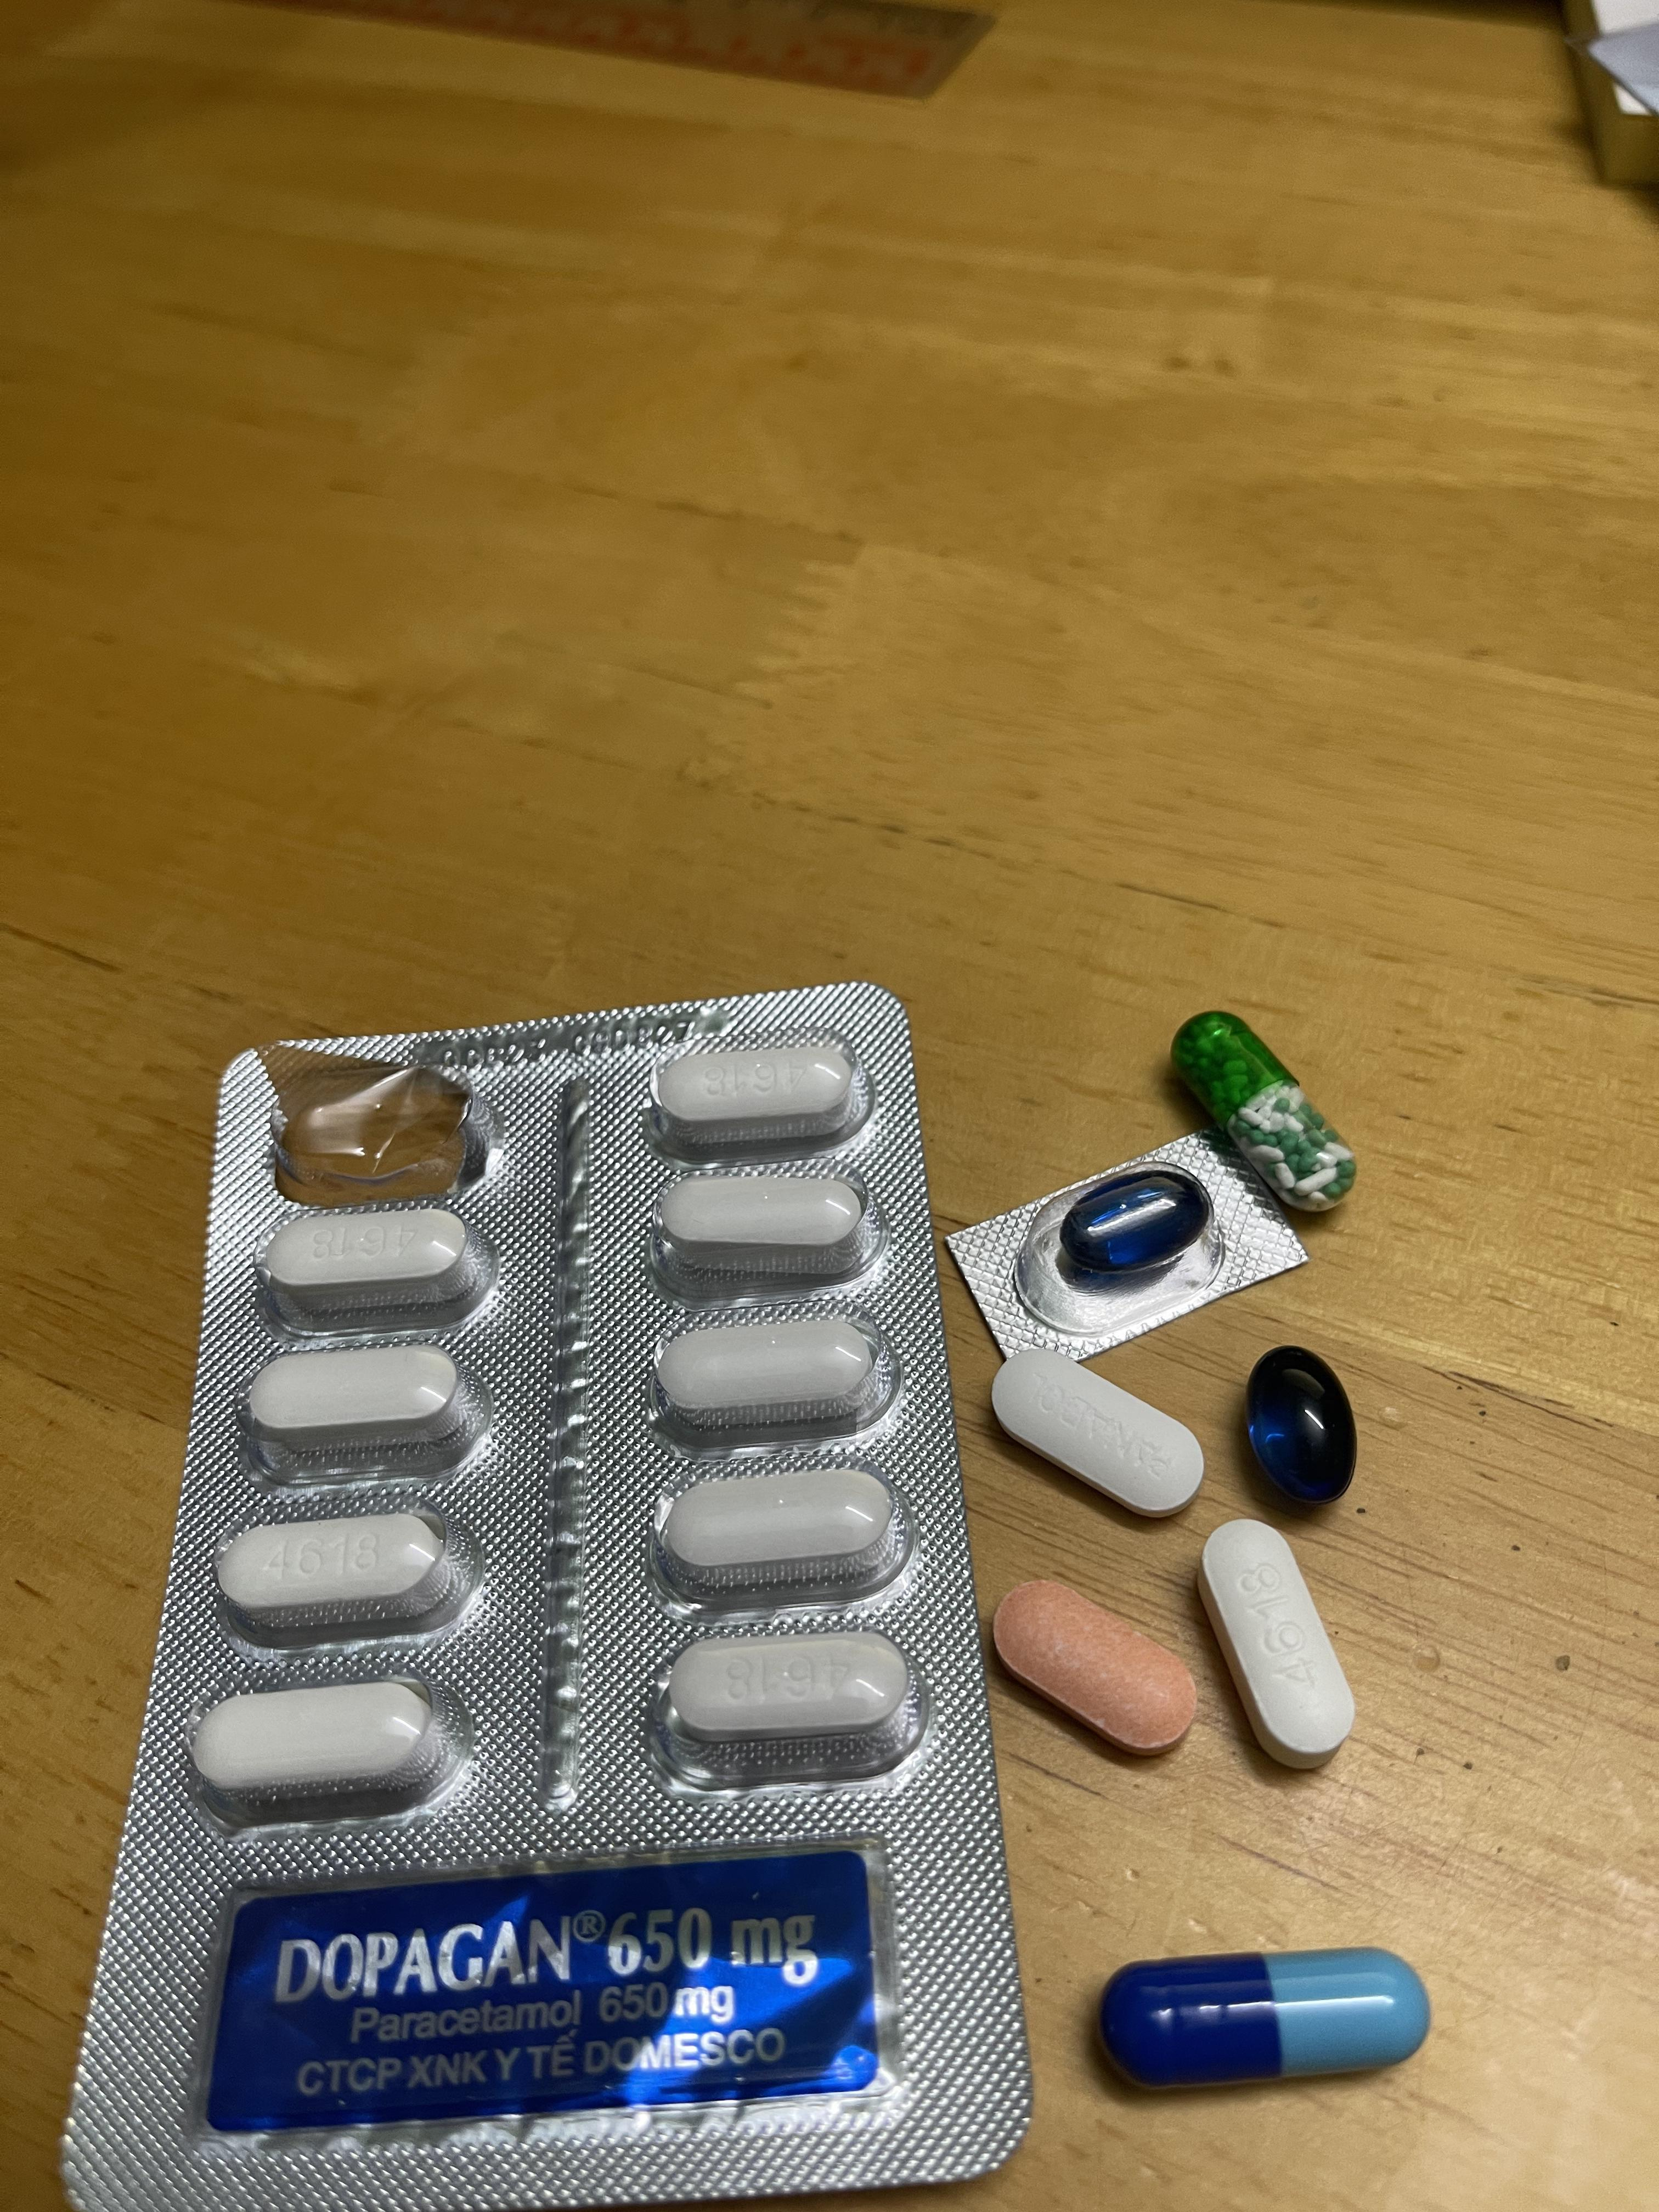Lincomyxin_500mg: (1244, 1345, 1358, 1508), (1056, 1174, 1202, 1285)
Loratadine_10mg: (990, 1576, 1199, 1756)
Paracetamol_350mg: (993, 1355, 1202, 1519)
Paracetamol_500mg: (1197, 1526, 1354, 1761), (652, 1629, 915, 1766), (183, 1679, 457, 1808), (211, 1508, 467, 1634), (650, 1467, 901, 1587), (237, 1343, 477, 1460), (650, 1313, 885, 1430), (256, 1205, 488, 1320), (650, 1169, 875, 1275), (648, 1040, 863, 1141)
Paracetamol_650mg: (1173, 1012, 1352, 1214)
pill: (1105, 1961, 1424, 2085)
